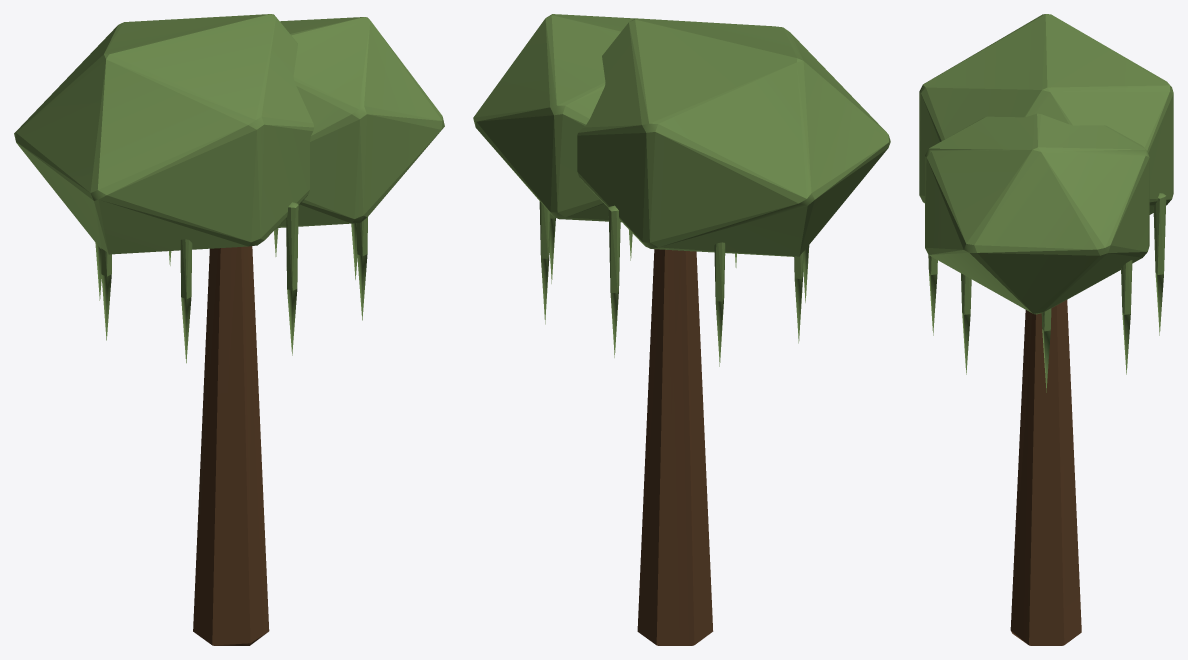
The model's file is prop_willow_lod1.glb.
3 renders of one model, left to right at view 1: azimuth 30°, elevation 25°; view 2: azimuth 150°, elevation 25°; view 3: azimuth 270°, elevation 25°, orthographic. The views are drawn at different scales.
Parts seen in each view (by area): view 1: prop_willow_lod1; view 2: prop_willow_lod1; view 3: prop_willow_lod1.
Boxes of the visible parts, x1=… form: prop_willow_lod1: x1=14, y1=14, x2=444, y2=645; prop_willow_lod1: x1=473, y1=14, x2=890, y2=645; prop_willow_lod1: x1=919, y1=14, x2=1173, y2=645.
Bounding box in the file's own units: 3.25 × 5.38 × 2.2.
